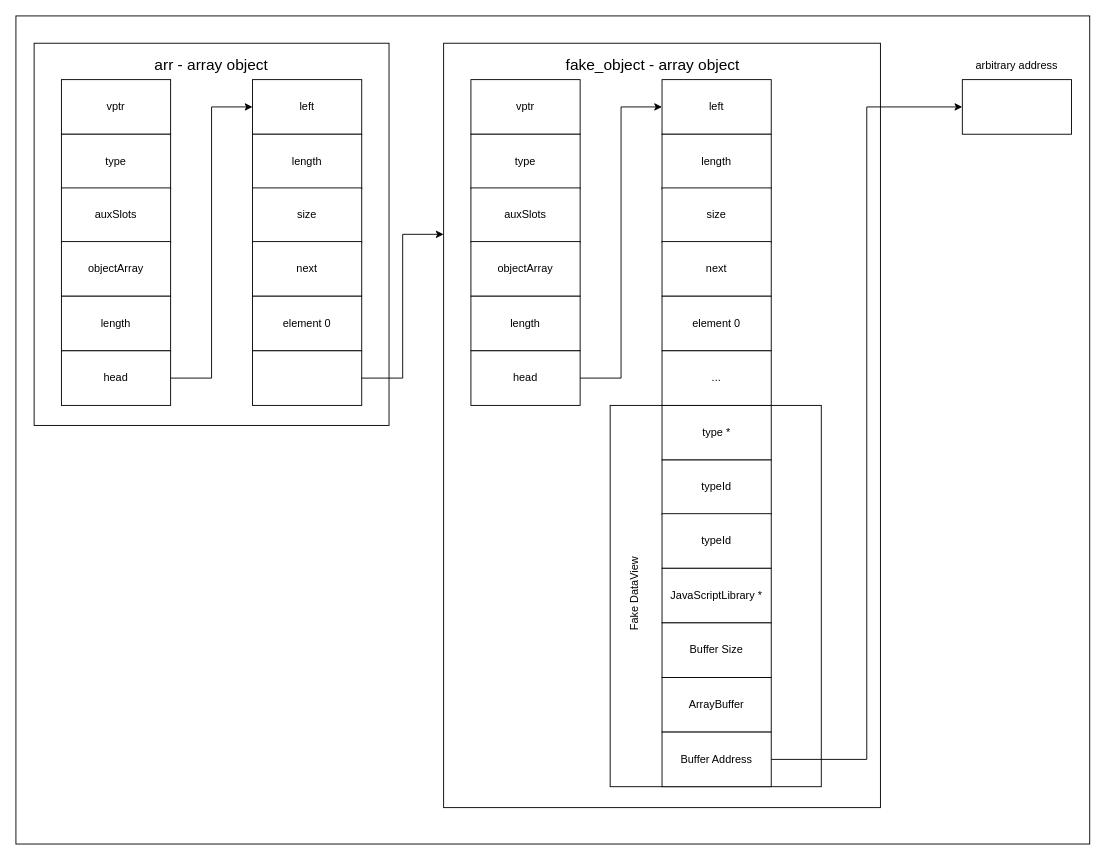
Some shapes in this 1106 by 860 pixel diagram are drawn without their labels. The shapes that lost their labels are listed below. From the top down, each one's box as (x1, y1, x2, y2) in pixels, then its label:
(961, 79, 1072, 134): 0x414141414141
(252, 350, 362, 405): element 1
